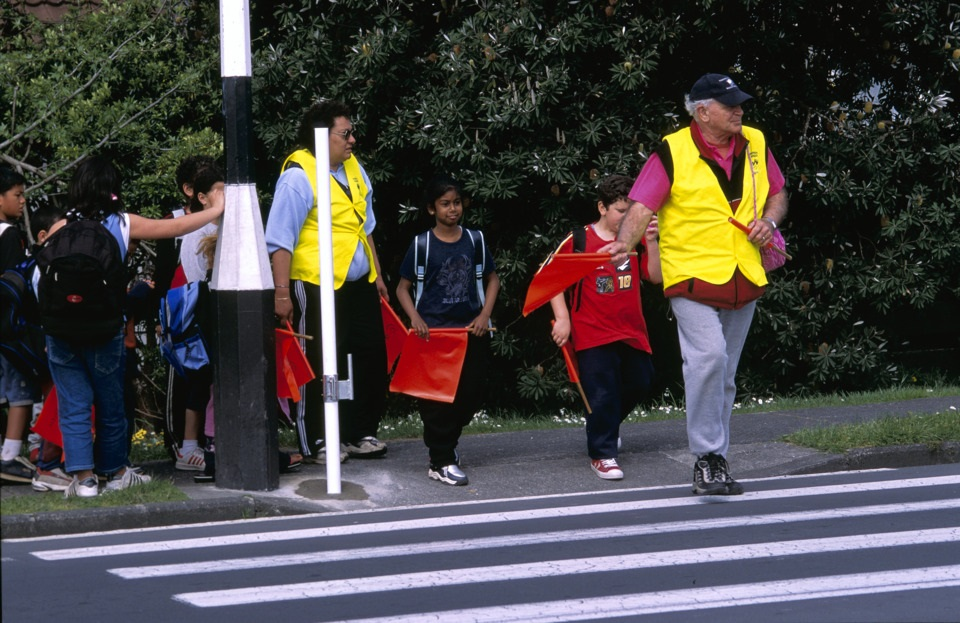person: (648, 73, 791, 493), (550, 175, 654, 478), (397, 182, 500, 486)
